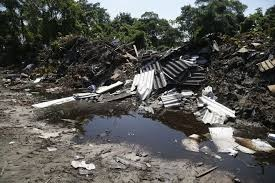rubble: (130, 44, 269, 123)
